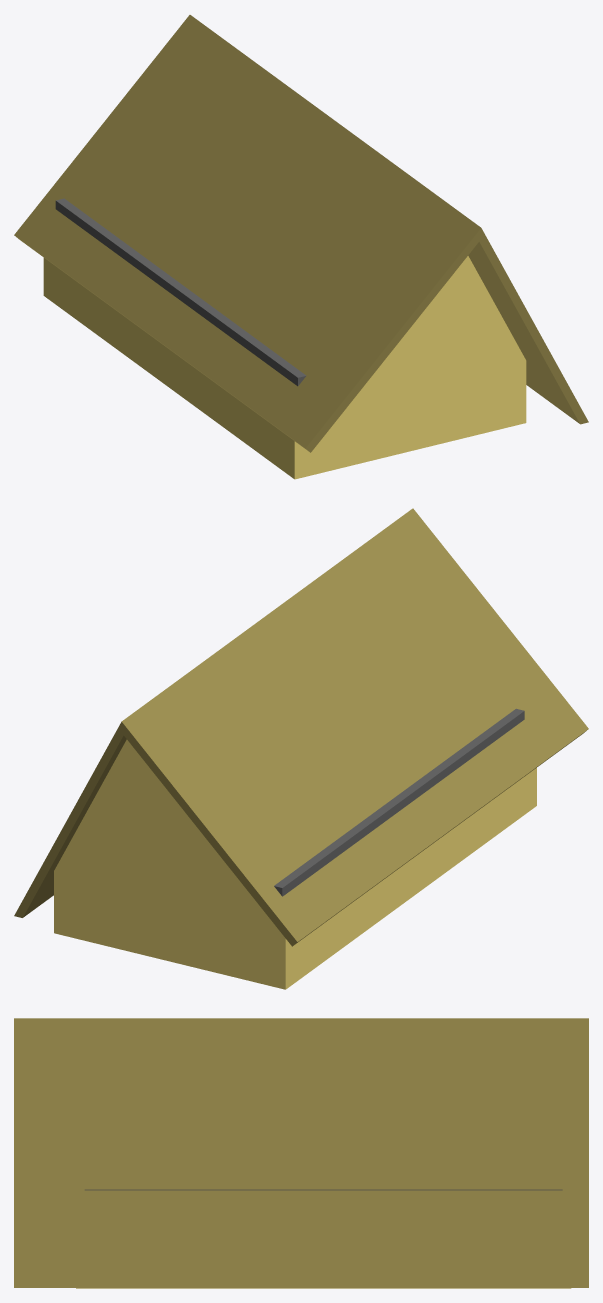
The model's file is result.glb.
3 renders of one model, top to bottom at view 1: azimuth 30°, elevation 25°; view 2: azimuth 150°, elevation 25°; view 3: azimuth 270°, elevation 25°, orthographic.
Visible parts, largest first — view 1: e2e4f077-55cd-46a1-bb92-696be4dd4a6f__undefined (×2), 92ad9313-0755-4c5f-9365-61dcbb47744a__undefined, c5d2f986-394b-4b7c-88c4-9e08057865b6__Box; view 2: e2e4f077-55cd-46a1-bb92-696be4dd4a6f__undefined (×2), 92ad9313-0755-4c5f-9365-61dcbb47744a__undefined, c5d2f986-394b-4b7c-88c4-9e08057865b6__Box; view 3: e2e4f077-55cd-46a1-bb92-696be4dd4a6f__undefined, c5d2f986-394b-4b7c-88c4-9e08057865b6__Box, 92ad9313-0755-4c5f-9365-61dcbb47744a__undefined.
Boxes of the visible parts, x1,y1,x2,y2 form: e2e4f077-55cd-46a1-bb92-696be4dd4a6f__undefined (×2): (14, 15, 588, 452); 92ad9313-0755-4c5f-9365-61dcbb47744a__undefined: (43, 256, 526, 479); c5d2f986-394b-4b7c-88c4-9e08057865b6__Box: (55, 198, 306, 386); e2e4f077-55cd-46a1-bb92-696be4dd4a6f__undefined (×2): (14, 508, 588, 946); 92ad9313-0755-4c5f-9365-61dcbb47744a__undefined: (54, 739, 536, 989); c5d2f986-394b-4b7c-88c4-9e08057865b6__Box: (274, 708, 524, 896); e2e4f077-55cd-46a1-bb92-696be4dd4a6f__undefined: (14, 1018, 588, 1287); c5d2f986-394b-4b7c-88c4-9e08057865b6__Box: (85, 1189, 562, 1190); 92ad9313-0755-4c5f-9365-61dcbb47744a__undefined: (76, 1288, 571, 1288).
Bounding box in the file's own units: 922 × 736 × 1641.
